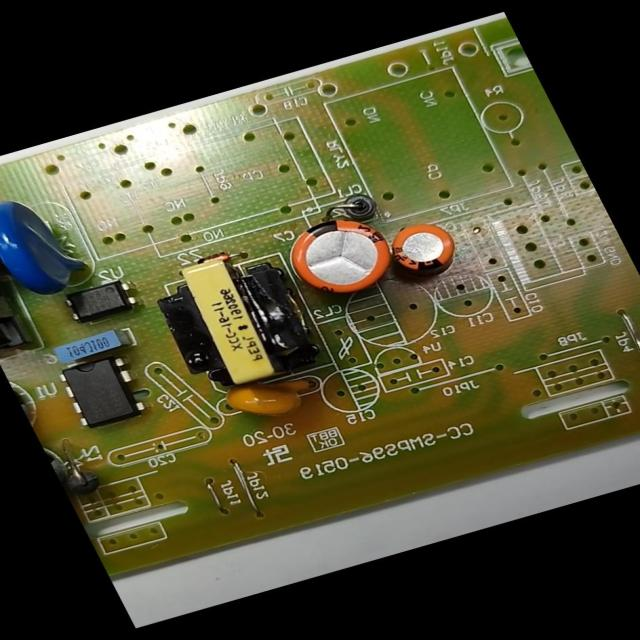Cap1: (272, 207, 408, 306)
Cap2: (372, 214, 469, 286)
MOSFET: (49, 348, 154, 436)
Mov: (0, 184, 101, 310)
Transformer: (137, 238, 340, 407), (0, 265, 48, 363)
